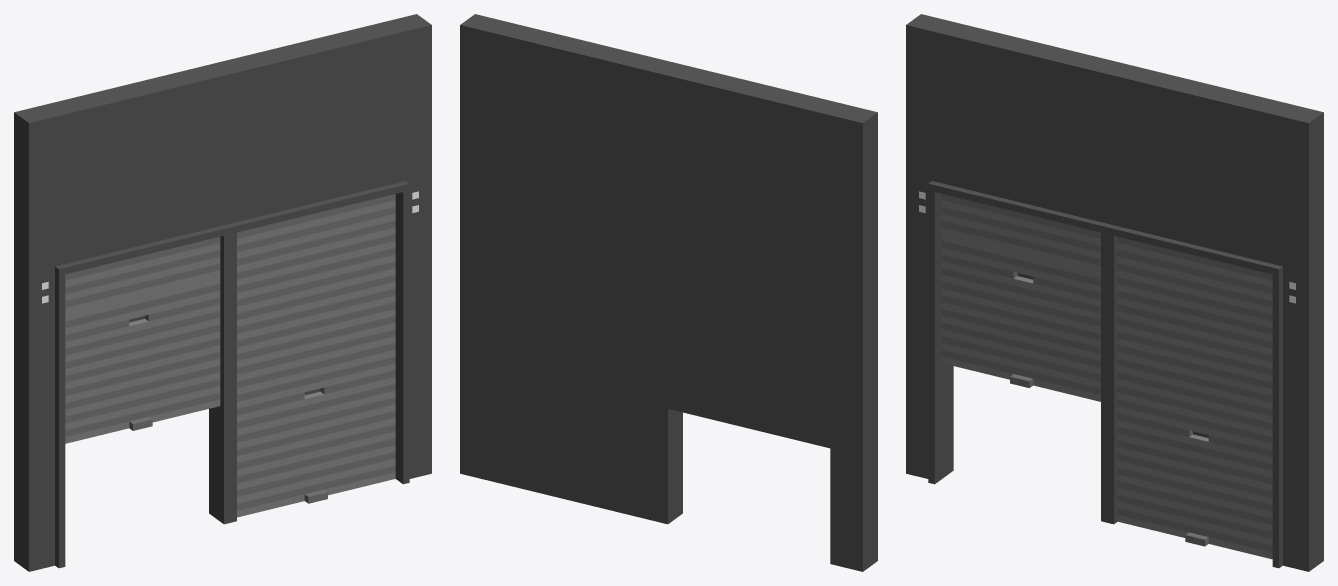
The model's file is rollingDoorTwo.glb.
3 views of the same model, side by side, from view 1: azimuth 30°, elevation 25°; view 2: azimuth 150°, elevation 25°; view 3: azimuth 330°, elevation 25° (orthographic).
Visible parts, largest first — view 1: ObjObject; view 2: ObjObject; view 3: ObjObject.
Boxes of the visible parts, x1=… form: ObjObject: x1=14, y1=14, x2=431, y2=571; ObjObject: x1=460, y1=14, x2=877, y2=571; ObjObject: x1=906, y1=14, x2=1323, y2=571.
Size of the model in its own units: 6.2 by 6.6 by 0.5.
Materials: 1 (1 with a texture image).
